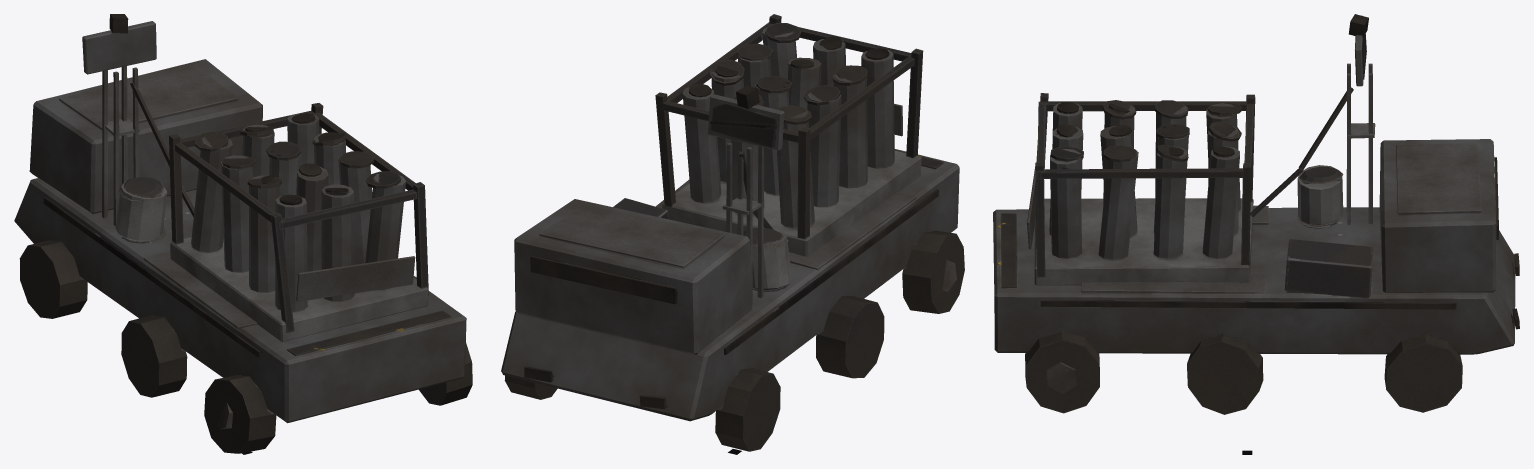
Rendered from chs_griffin_wreck.fbx.
The picture shows the model from 3 angles, left to right: view 1: azimuth 30°, elevation 25°; view 2: azimuth 150°, elevation 25°; view 3: azimuth 270°, elevation 25°; orthographic projection. The views are drawn at different scales.
Parts seen in each view (by area): view 1: base_bar, launcher_bar, wheelL3_bar, wheelL2_bar, wheelL1_bar, radar_bar, wheelR3_bar; view 2: base_bar, launcher_bar, wheelL2_bar, wheelL3_bar, wheelL1_bar, radar_bar, wheelR1_bar; view 3: base_bar, launcher_bar, wheelR3_bar, wheelR1_bar, wheelR2_bar, radar_bar.
Boxes of the visible parts, left/top/right/bottom form: base_bar: left=14, top=14, right=466, bottom=423; launcher_bar: left=169, top=103, right=428, bottom=341; wheelL3_bar: left=204, top=375, right=276, bottom=453; wheelL2_bar: left=121, top=315, right=187, bottom=397; wheelL1_bar: left=19, top=240, right=87, bottom=318; radar_bar: left=82, top=21, right=156, bottom=74; wheelR3_bar: left=418, top=343, right=472, bottom=405; base_bar: left=501, top=85, right=959, bottom=421; launcher_bar: left=655, top=14, right=923, bottom=256; wheelL2_bar: left=816, top=295, right=884, bottom=378; wheelL3_bar: left=902, top=230, right=964, bottom=313; wheelL1_bar: left=715, top=368, right=780, bottom=451; radar_bar: left=707, top=94, right=784, bottom=150; wheelR1_bar: left=504, top=375, right=557, bottom=399; base_bar: left=993, top=14, right=1519, bottom=354; launcher_bar: left=1027, top=93, right=1255, bottom=285; wheelR3_bar: left=1025, top=331, right=1099, bottom=413; wheelR1_bar: left=1384, top=334, right=1462, bottom=412; wheelR2_bar: left=1187, top=334, right=1263, bottom=414; radar_bar: left=1355, top=15, right=1366, bottom=86.
Size of the model in its own units: 514 by 860 by 1022.
Materials: 2 (2 with a texture image).
